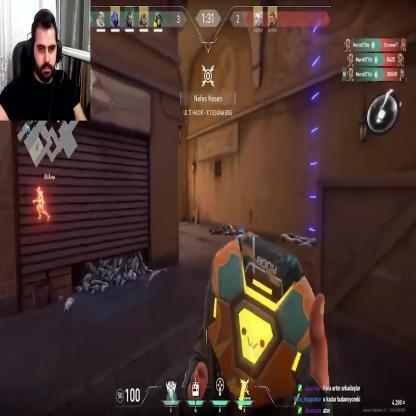enemy: (34, 186, 50, 222)
enemy_head: (36, 186, 40, 194)
